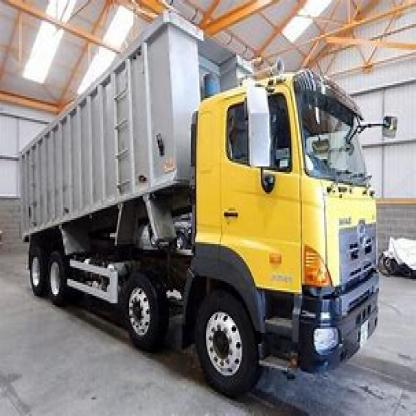dump_truck: (13, 7, 411, 388)
